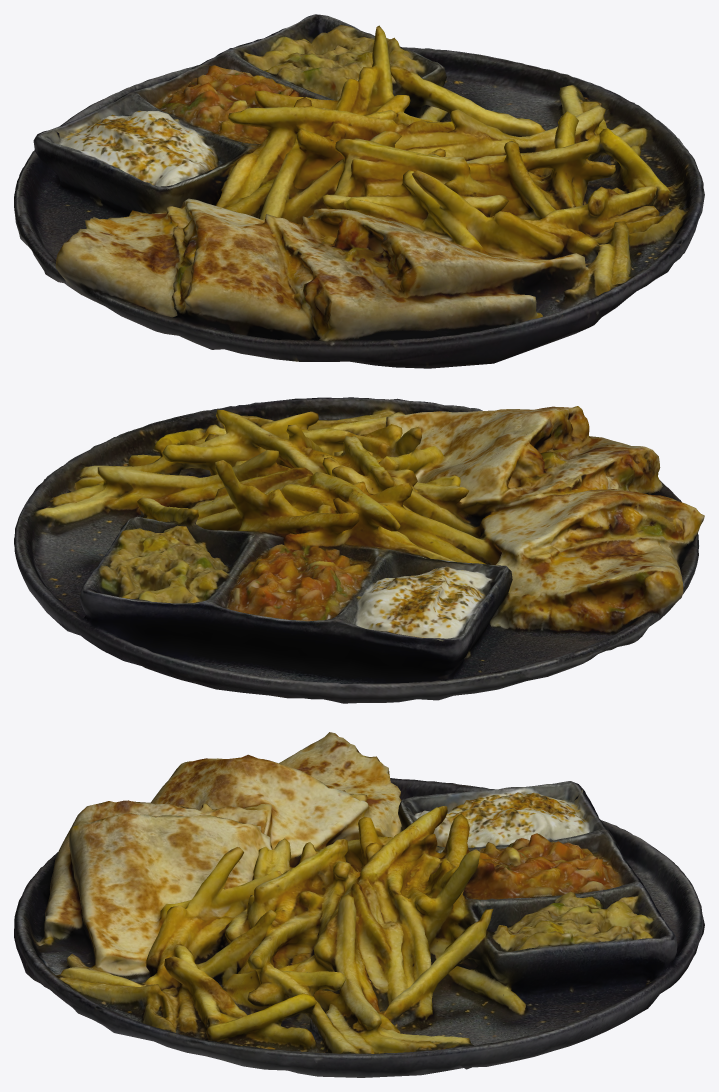
File: chickenQuesadilla_1752057967757.glb
3 views of the same model, one above another, from view 1: azimuth 30°, elevation 25°; view 2: azimuth 150°, elevation 25°; view 3: azimuth 270°, elevation 25° (orthographic).
Parts seen in each view (by area): view 1: 3DModel_Custom; view 2: 3DModel_Custom; view 3: 3DModel_Custom.
Boxes of the visible parts, <box> form: 3DModel_Custom: <box>14,14,704,368</box>; 3DModel_Custom: <box>14,397,704,703</box>; 3DModel_Custom: <box>14,732,704,1077</box>.
Bounding box in the file's own units: 0.3182 × 0.0711 × 0.3108.
Materials: 1 (1 with a texture image).
